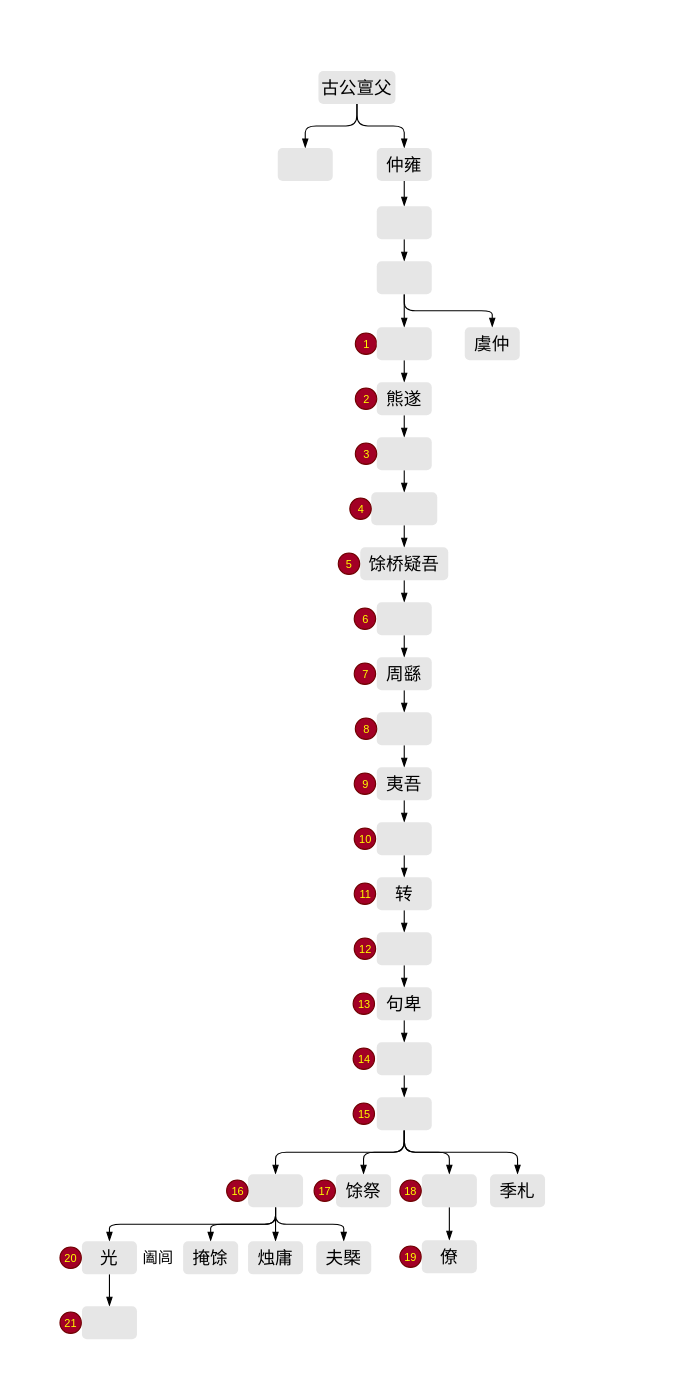
Image size: 675x1379. Some labels were removed from this diagram. Each missing label, with the box of its shape:
去齐: (376, 1042, 431, 1075)
叔达: (376, 261, 431, 294)
周章: (376, 327, 431, 360)
太伯: (277, 147, 332, 180)
夫差: (81, 1306, 136, 1339)
季简: (376, 206, 431, 239)
寿梦: (376, 1097, 431, 1130)
屈羽: (376, 712, 431, 745)
彊鸠夷: (371, 492, 437, 525)
柯卢: (376, 602, 431, 635)
柯相: (376, 437, 431, 470)
禽处: (376, 822, 431, 855)
诸樊: (248, 1174, 302, 1207)
颇高: (376, 932, 431, 965)
馀眜: (421, 1174, 476, 1207)
